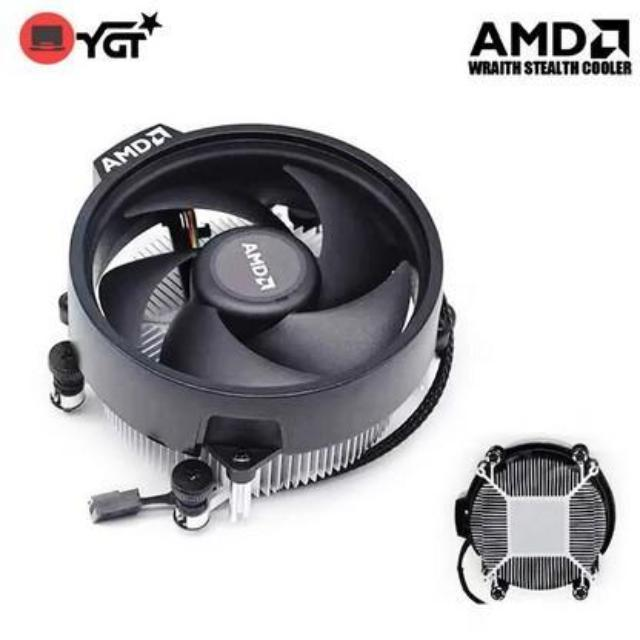CPU_Fan: (42, 102, 460, 544), (455, 423, 620, 606)
